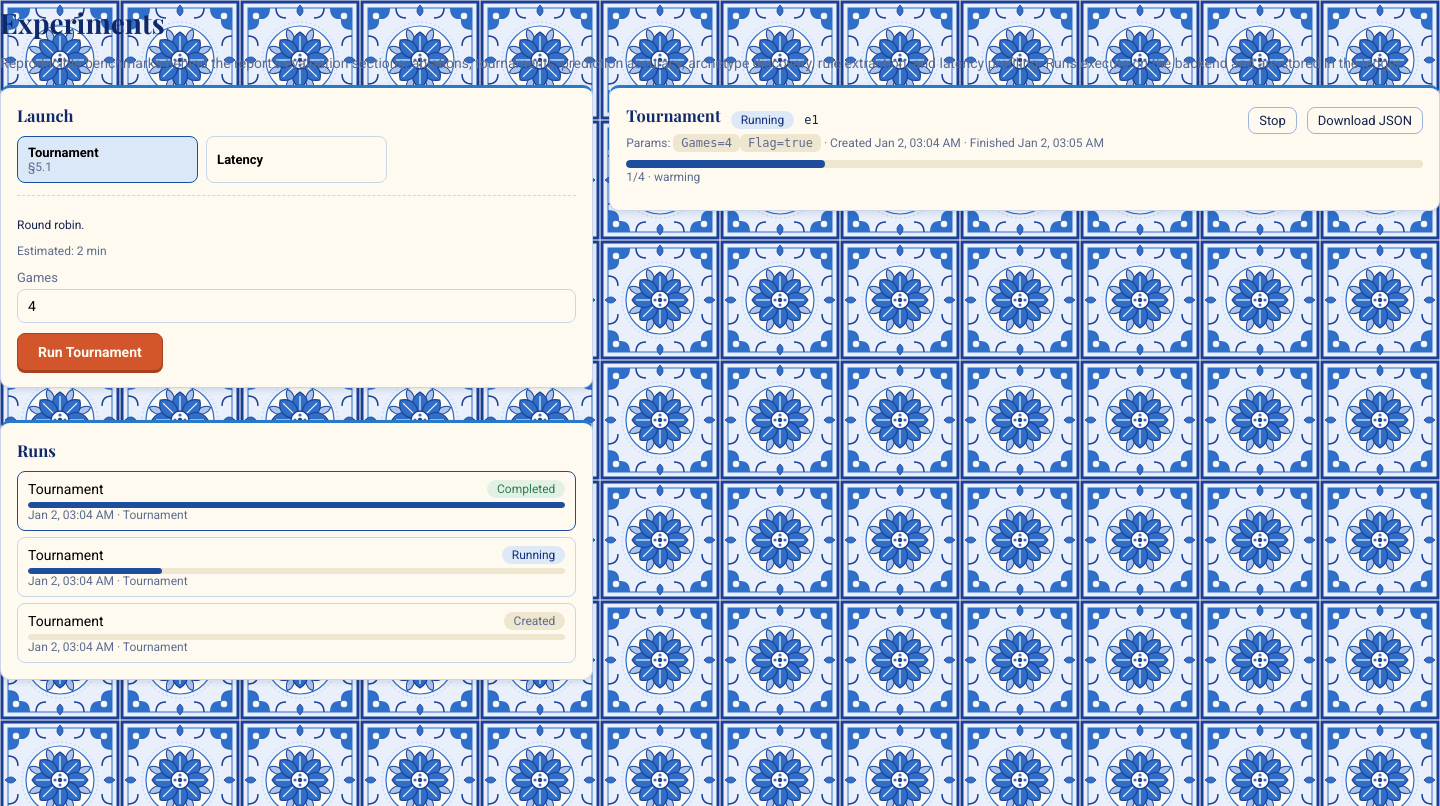
Test: Experiment run detail › follows a running experiment over the socket
The image size is (1440, 806).
expect the text "1/4 · warming" is shown: met, box [626,170,700,184]
Click the button "Stop" at (1272, 120), box [1248,106,1297,134]
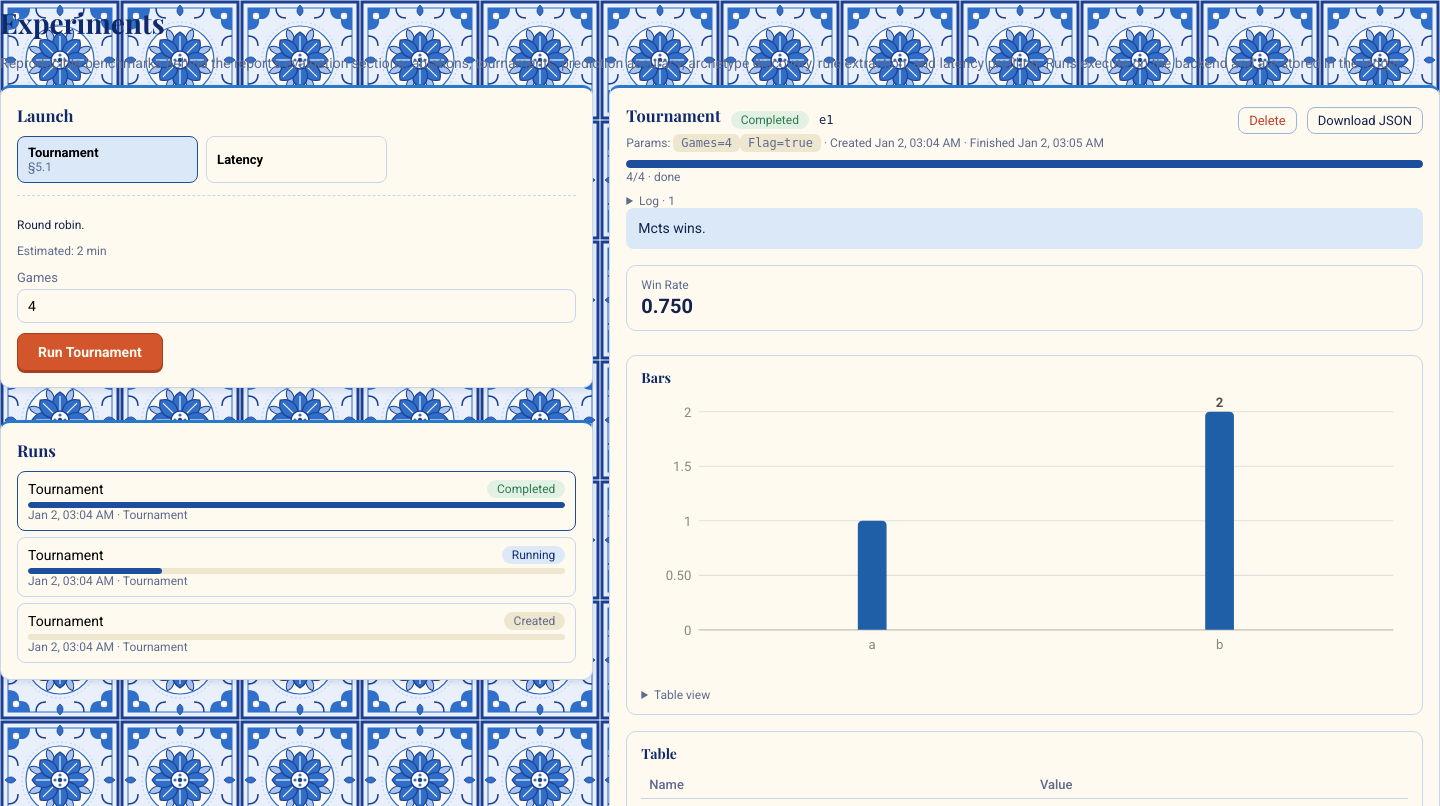
expect the text "half" is shown: met, box [626,170,680,184]
expect the heading "Log · 1" is shown: met, box [639,194,675,208]
expect the text "Mcts wins." is shown: met, box [626,208,1423,249]
